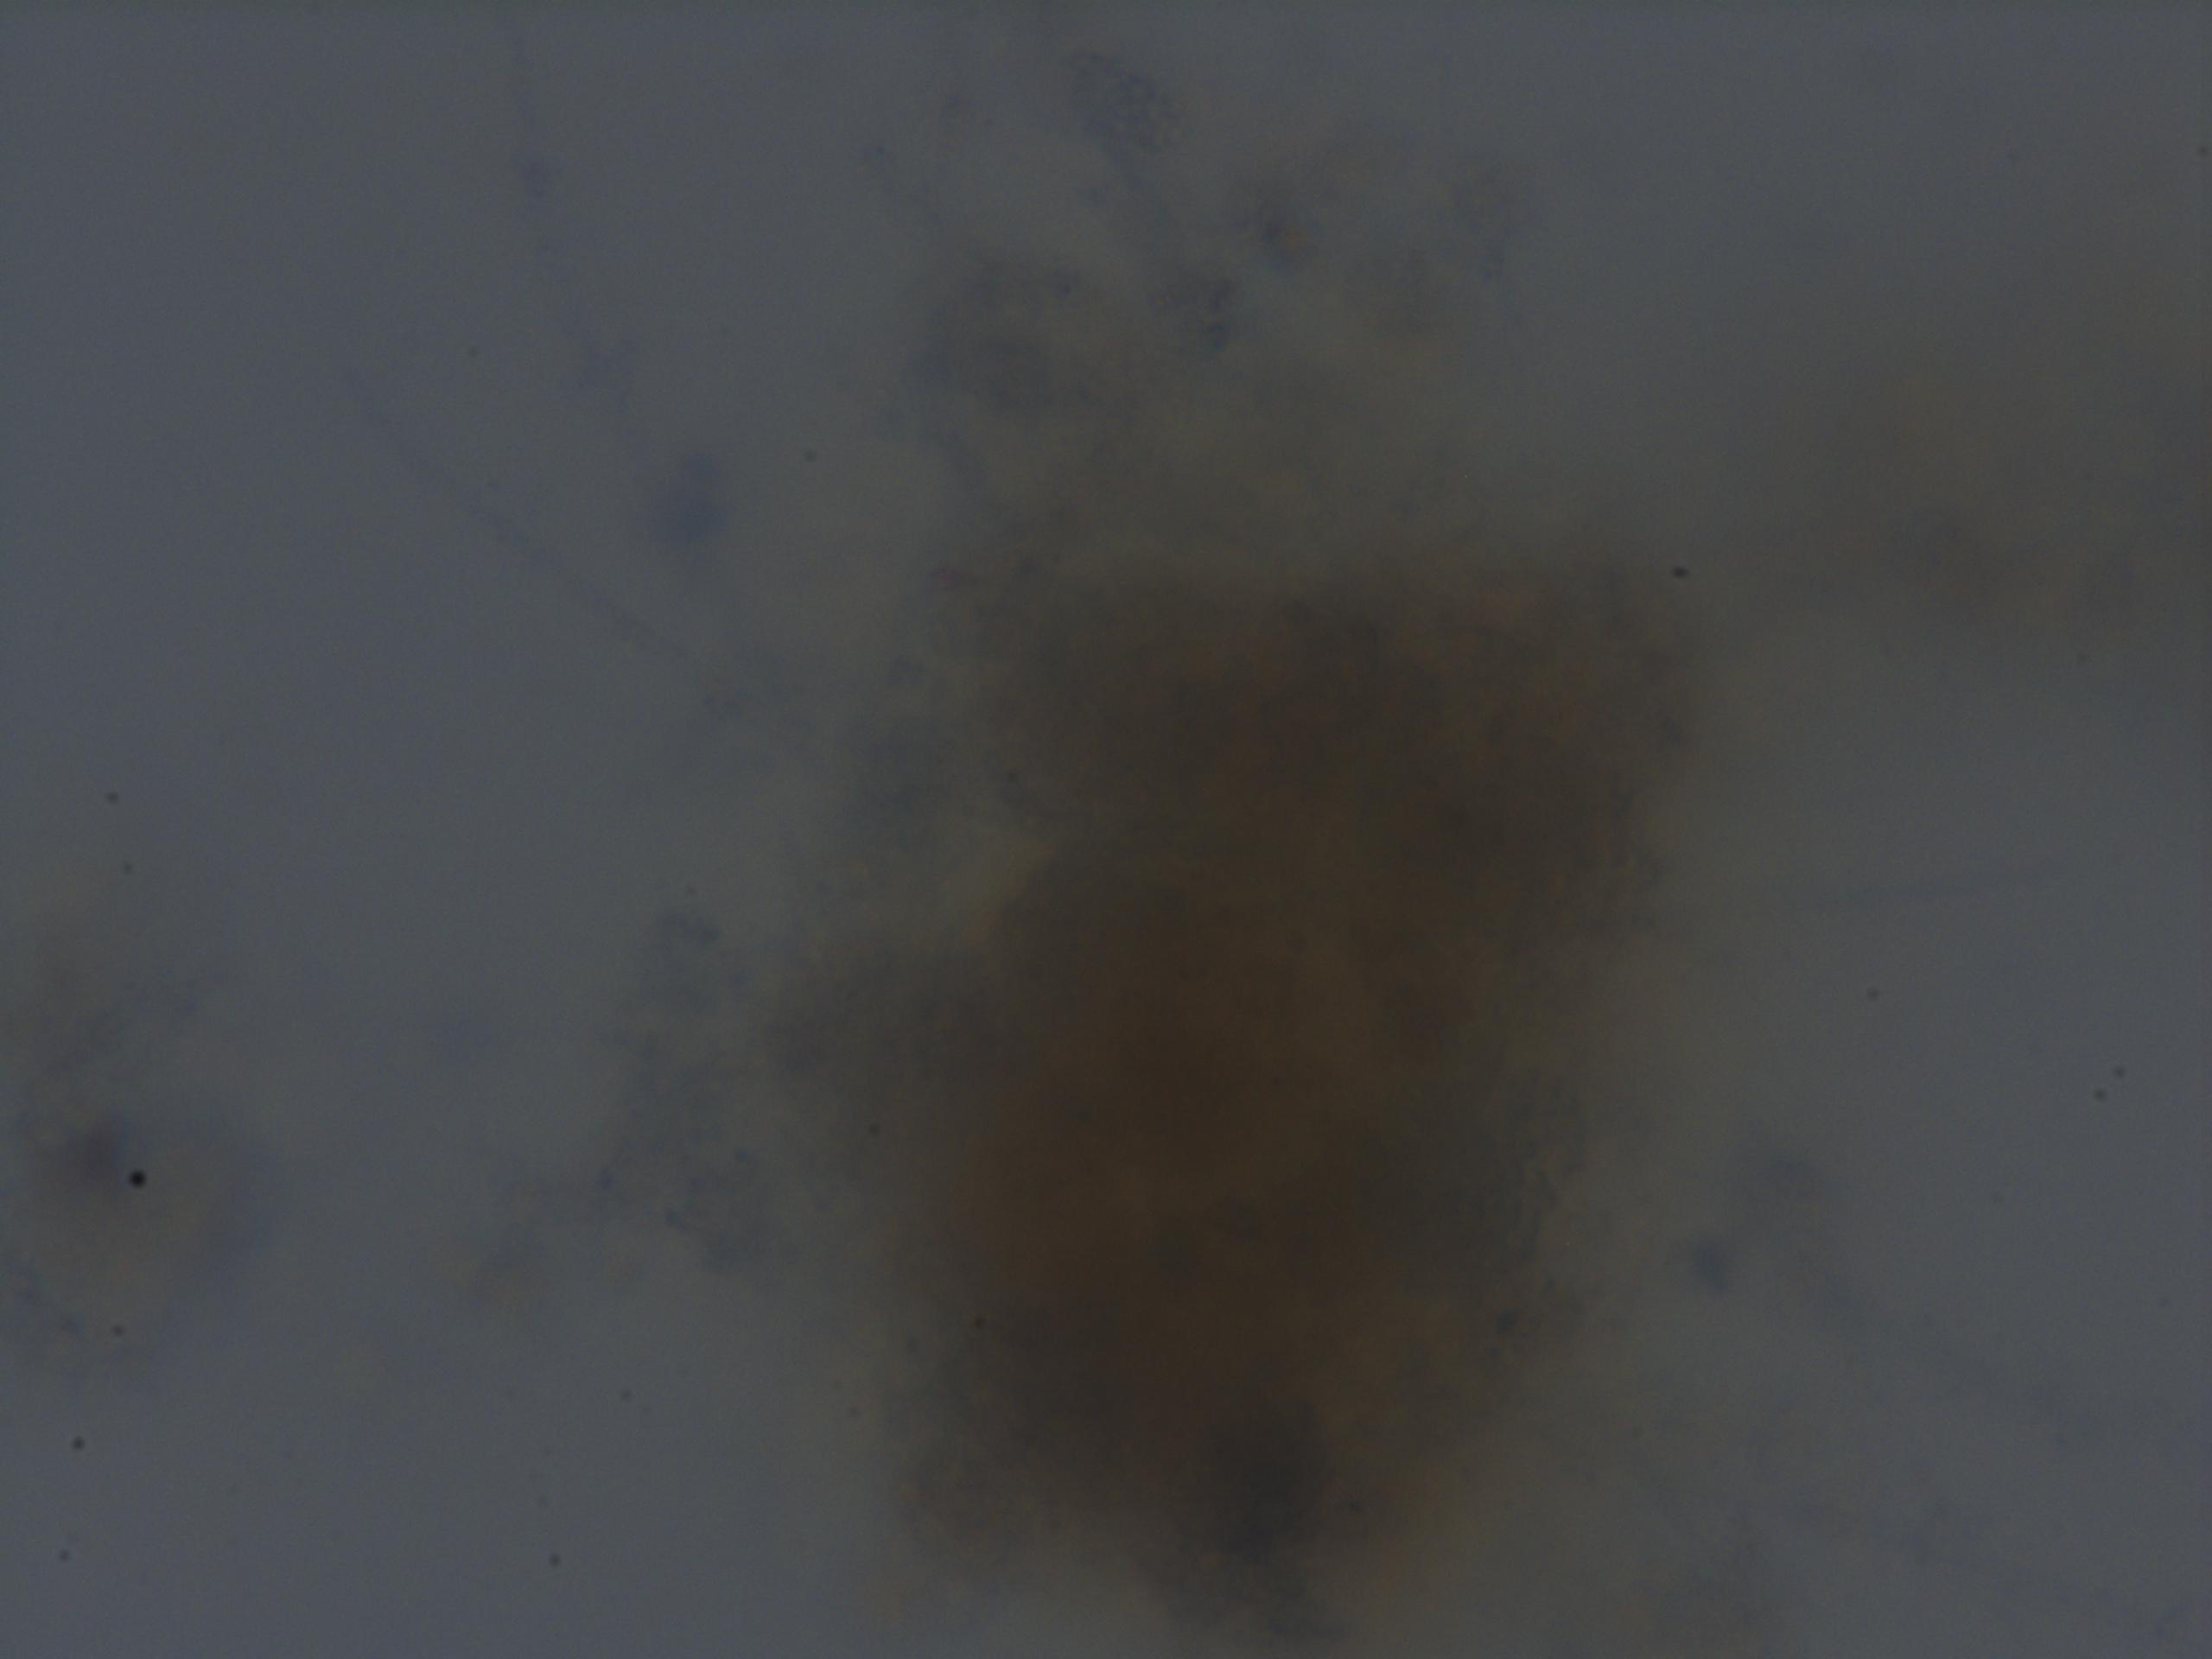filament: (258, 295, 871, 850), (448, 24, 895, 755)
spherical_floc: (824, 500, 1742, 1659)
